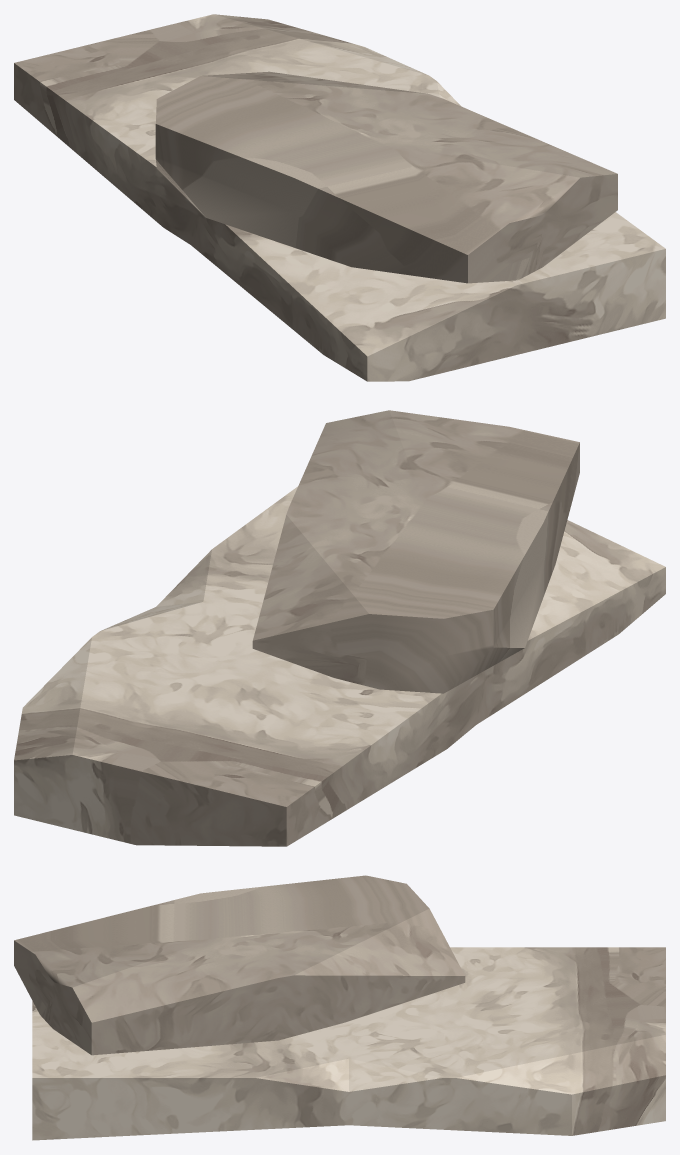
Rendered from ruina_2_top.obj.
3 views of the same model, one above another, from view 1: azimuth 30°, elevation 25°; view 2: azimuth 150°, elevation 25°; view 3: azimuth 270°, elevation 25° (orthographic). The views are drawn at different scales.
Visible parts, largest first — view 1: Cylinder.013; view 2: Cylinder.013; view 3: Cylinder.013.
Part boxes in pixels (x1,y1,x2,y2): Cylinder.013: (14, 14, 665, 381); Cylinder.013: (14, 410, 665, 846); Cylinder.013: (14, 875, 665, 1140).
Size of the model in its own units: 10.01 by 4.13 by 19.45.
Materials: 1 (1 with a texture image).
